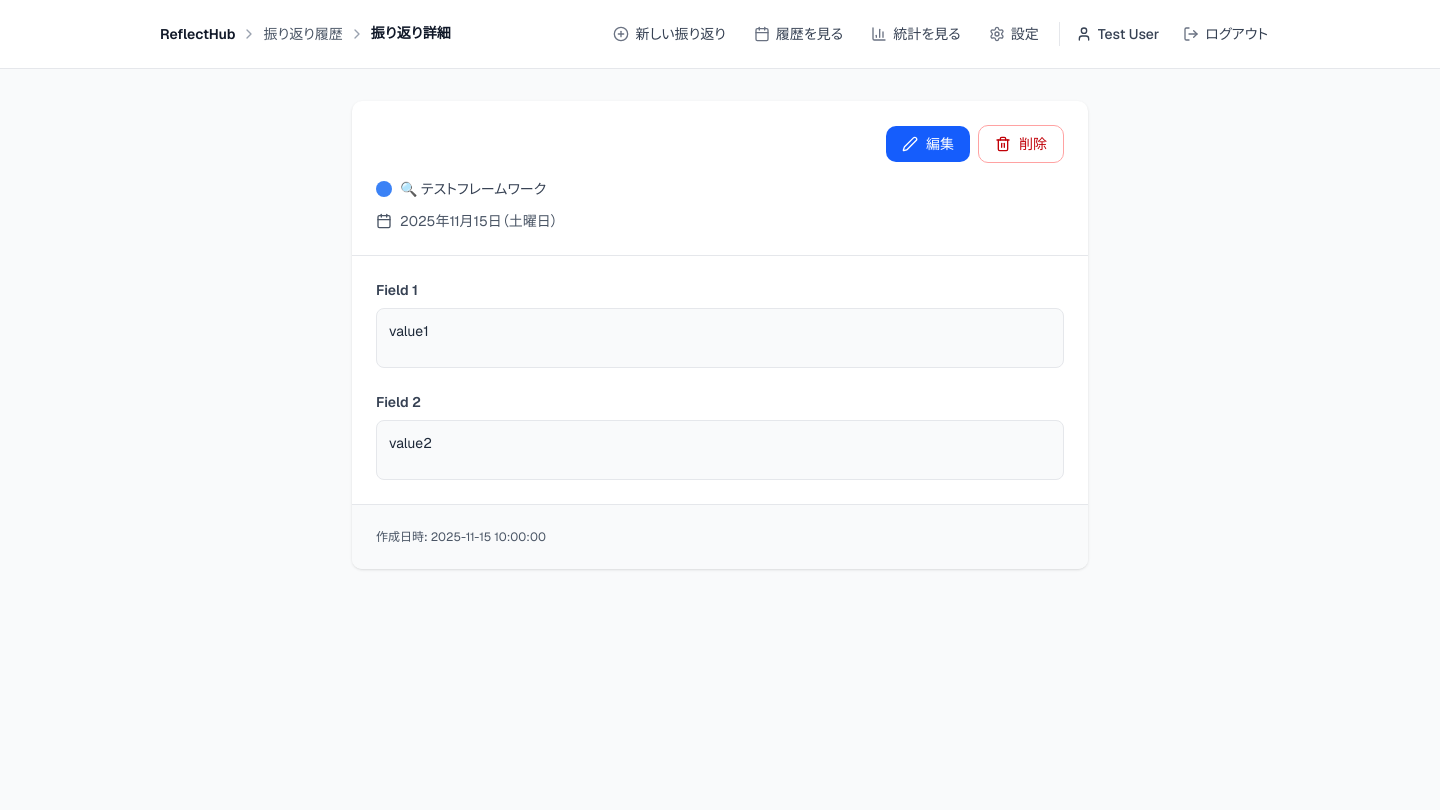
it: ReflectionDetailPage - Delete Feature › should allow canceling deletion
Expected: the text "削除" is shown, [1019,134,1047,154]
Click the button "削除" at (1021, 144), box [978,125,1064,163]
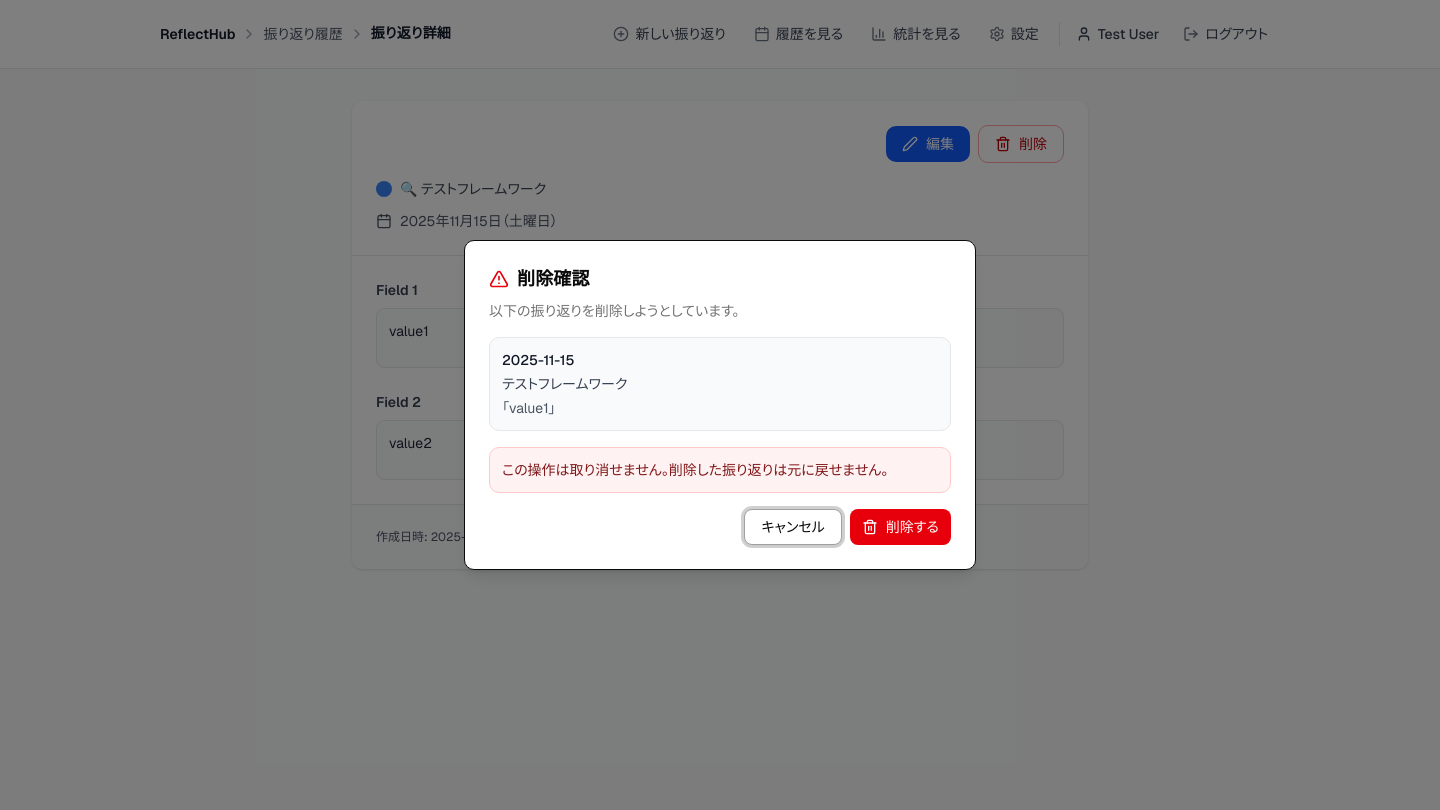
Now the heading "削除確認" is shown, box [489,267,590,290]
Click the button "キャンセル" at (793, 527), box [744,509,842,545]
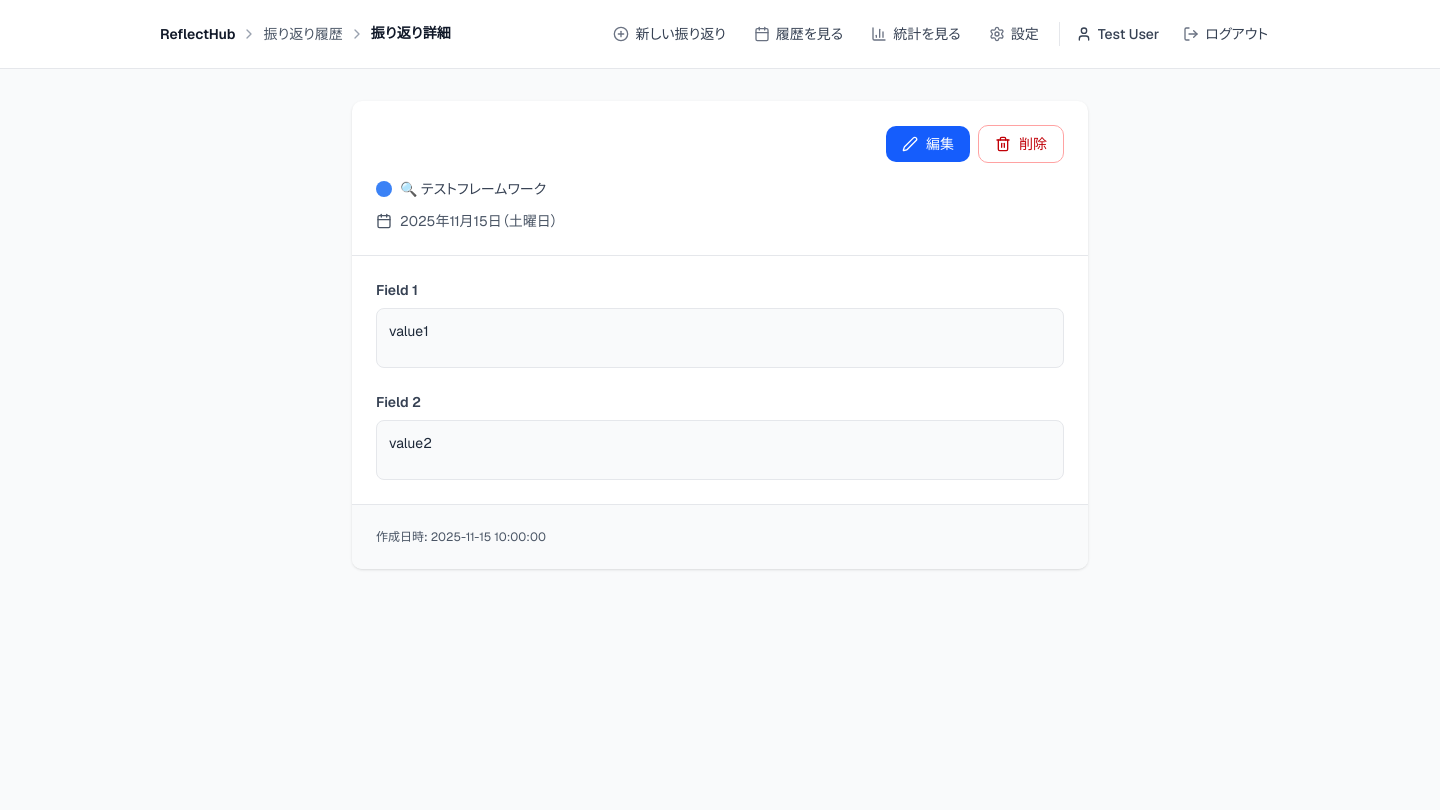
Now the heading "削除確認" is gone
